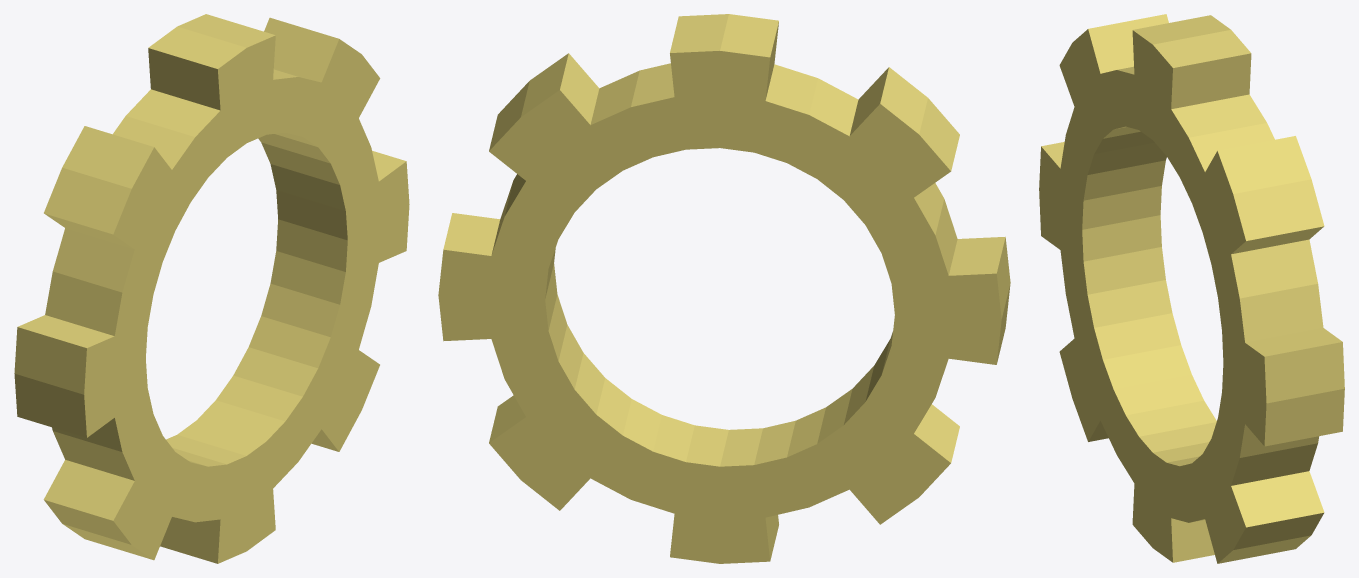
The model's file is Gear.glb.
3 renders of one model, left to right at view 1: azimuth 30°, elevation 25°; view 2: azimuth 150°, elevation 25°; view 3: azimuth 270°, elevation 25°, orthographic.
Parts seen in each view (by area): view 1: Cylinder.002; view 2: Cylinder.002; view 3: Cylinder.002.
Part boxes in pixels (bbox=[...]): Cylinder.002: bbox=[14, 14, 409, 563]; Cylinder.002: bbox=[438, 14, 1010, 563]; Cylinder.002: bbox=[1039, 14, 1344, 563].
Bounding box in the file's own units: 3.96 × 4.05 × 2.23.
